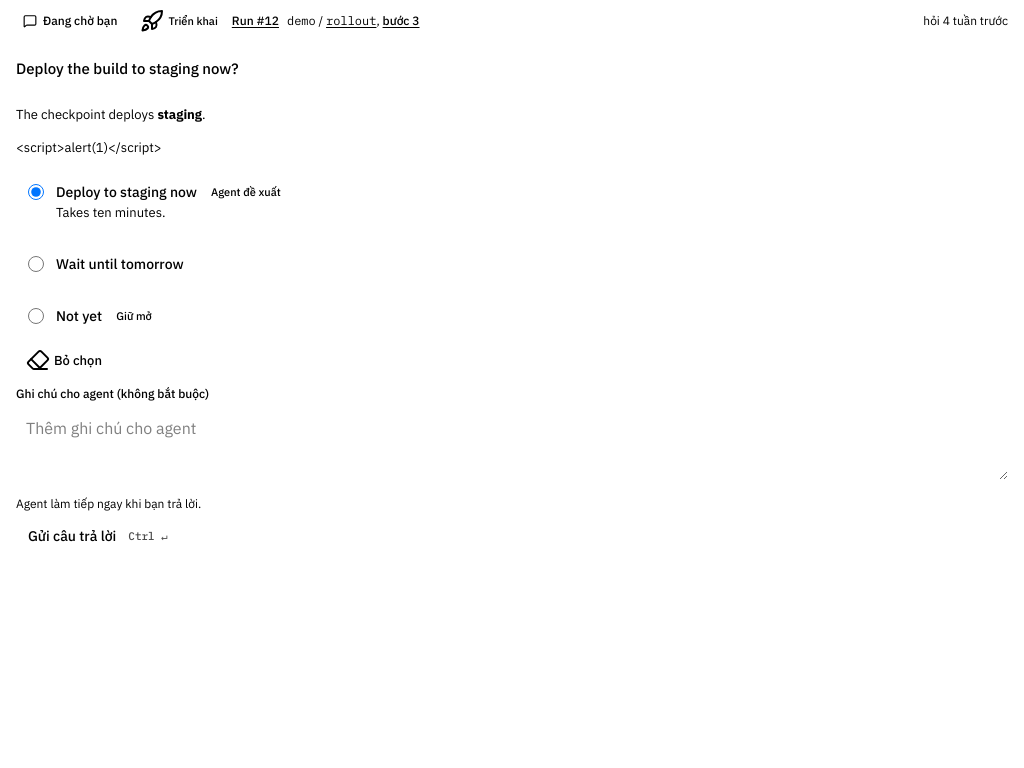
it: DecisionCard › keeps a decision open on an option that waits: tags it, refuses words with it, and says so in a toast
Expected: the text with test id "decision-option-waits" reads "Giữ mở", [116, 309, 152, 323]
Click the radio button labelled "Not yet Giữ mở": (36, 316) [28, 308, 44, 324]
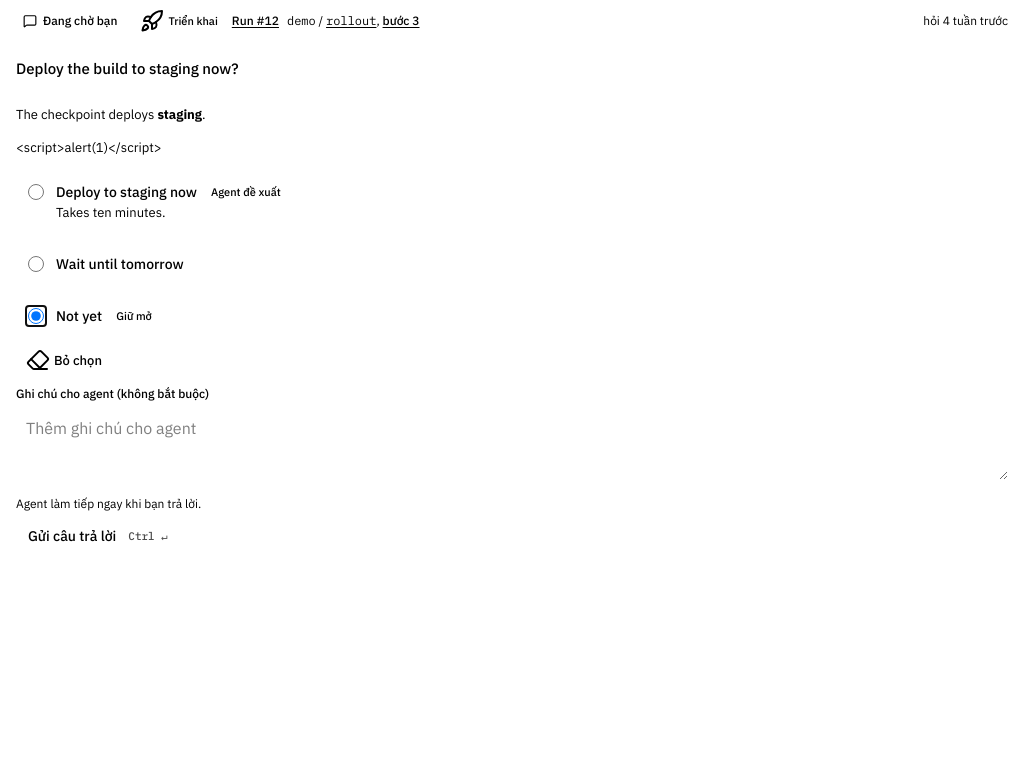
In the text box with test id "decision-text": (512, 444) [16, 408, 1008, 480], type "ask me after the 30th"
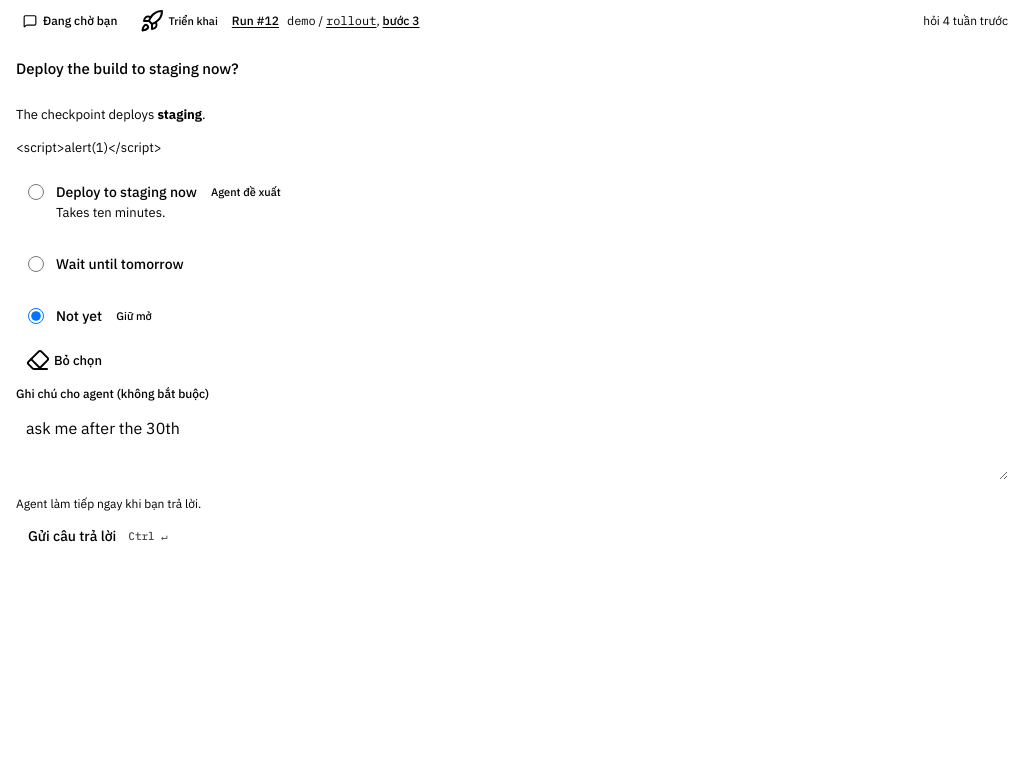
Click the button with test id "decision-send": (100, 536) [16, 520, 184, 552]
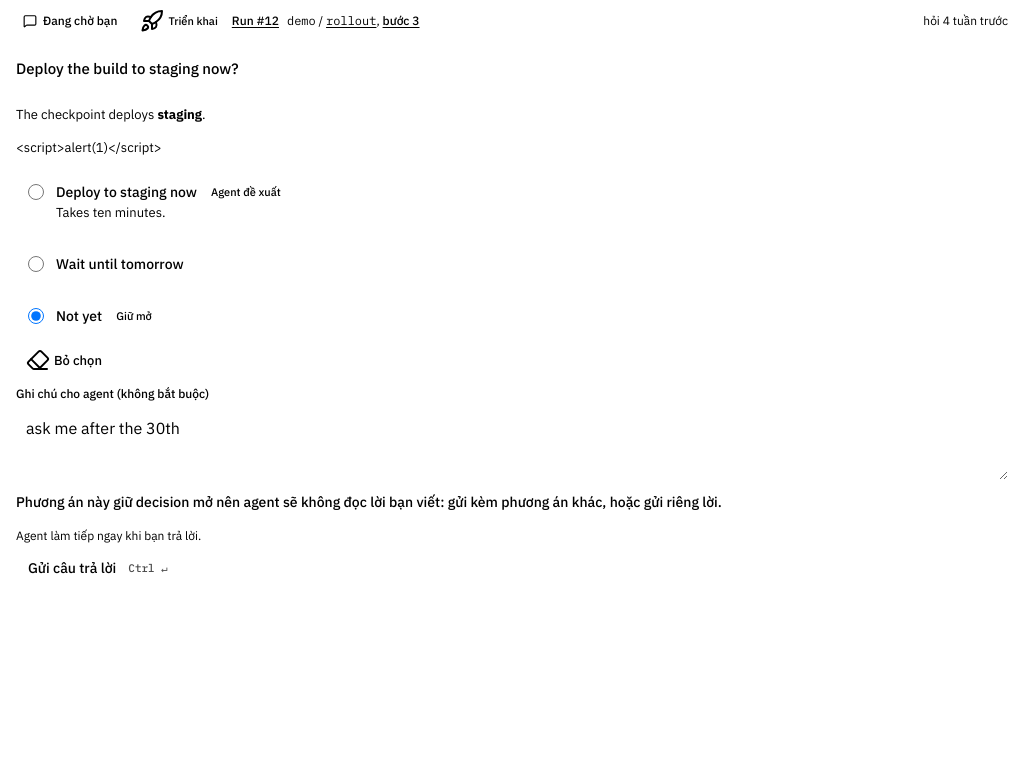
Expected: the message with test id "decision-problem" shows "Phương án này giữ decision mở", [16, 493, 722, 511]
Clear the text box with test id "decision-text": (512, 444) [16, 408, 1008, 480]
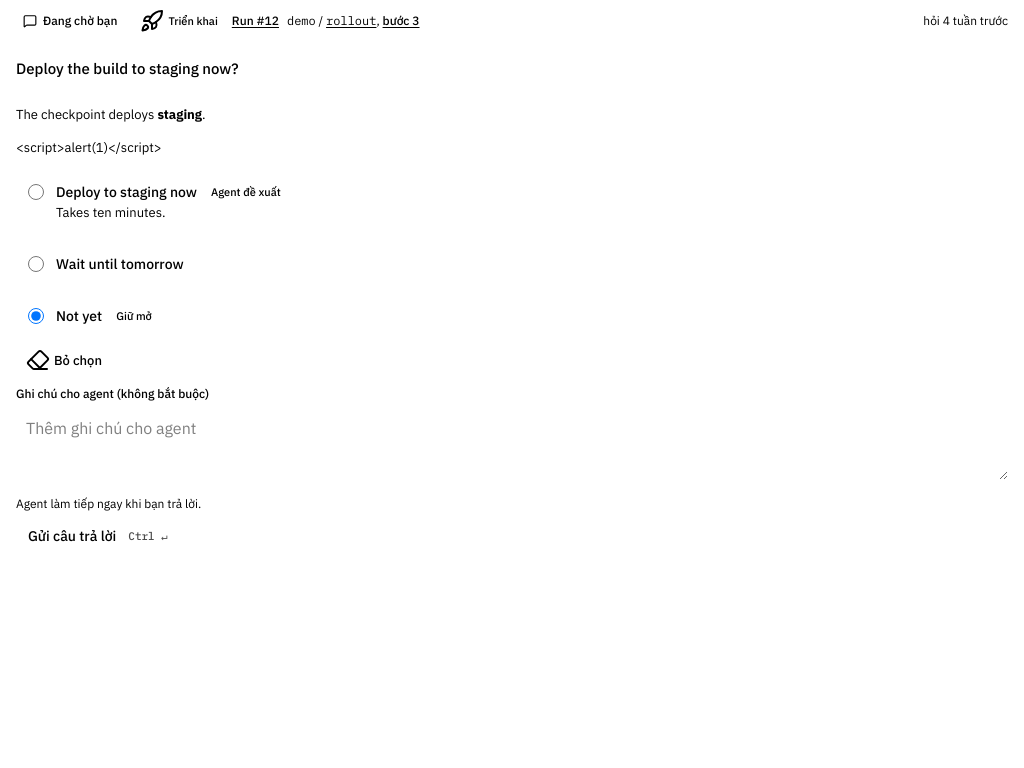
Click the button with test id "decision-send": (100, 536) [16, 520, 184, 552]
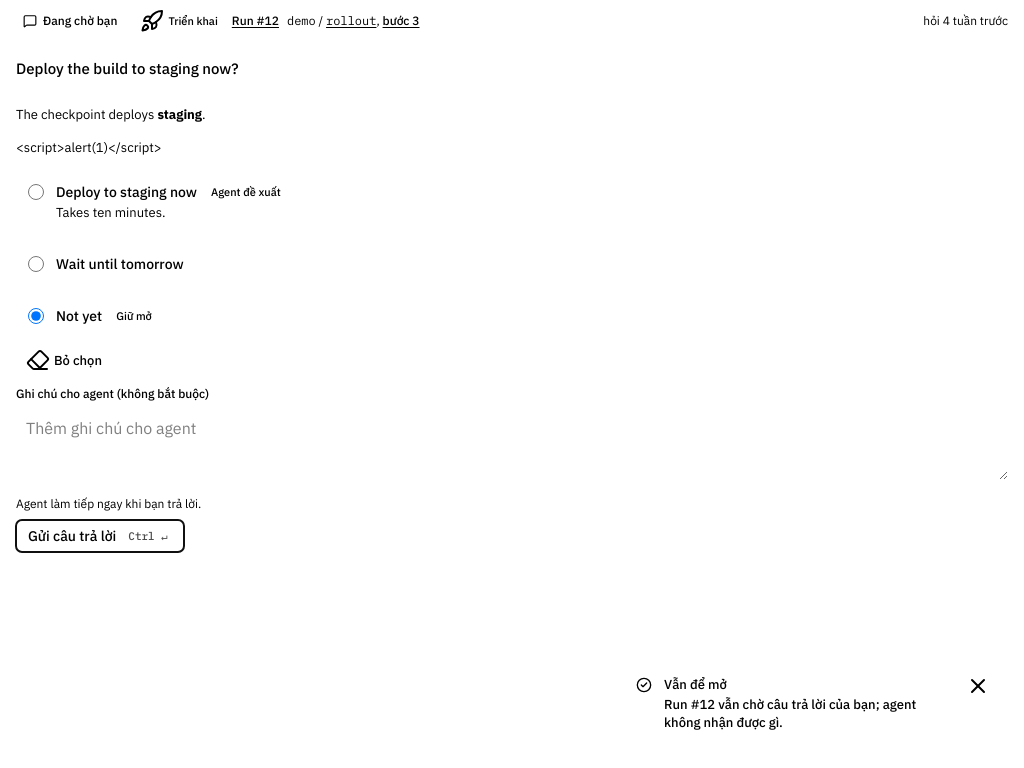
Expected: the text "Vẫn để mở" is shown, [664, 676, 727, 693]
Expected: the element with test id "toast" shows "Run #12 vẫn chờ câu trả lời của bạn", [664, 696, 916, 731]
